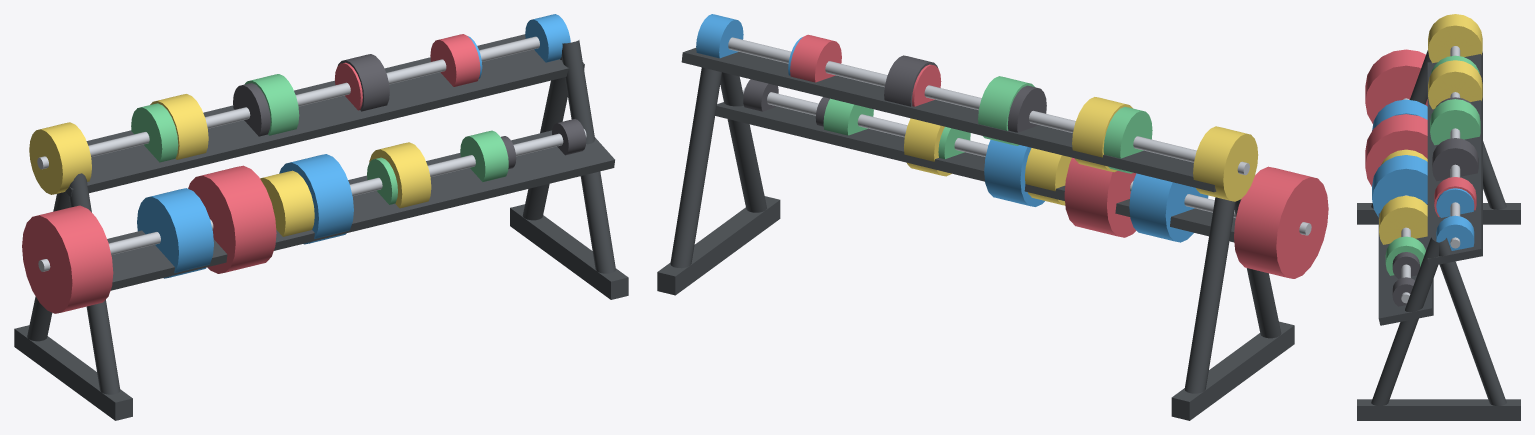
File: dumbbell-rack.glb
3 views of the same model, side by side, from view 1: azimuth 30°, elevation 25°; view 2: azimuth 150°, elevation 25°; view 3: azimuth 270°, elevation 25° (orthographic). The views are drawn at different scales.
Bounding box in the file's own units: 1.91 × 0.81 × 0.6.
